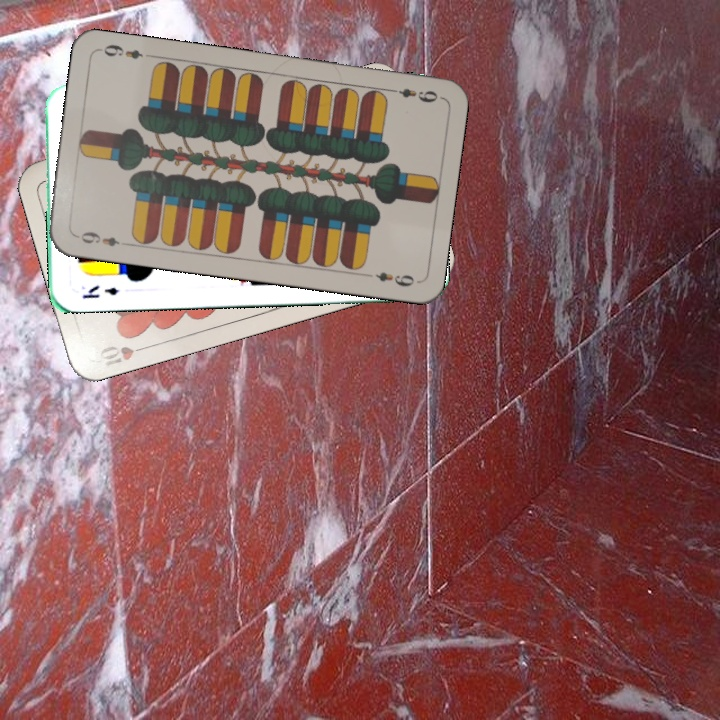E9: (71, 227, 130, 250), (384, 84, 441, 106)
EK: (78, 281, 121, 302)
H10: (95, 341, 152, 369)
